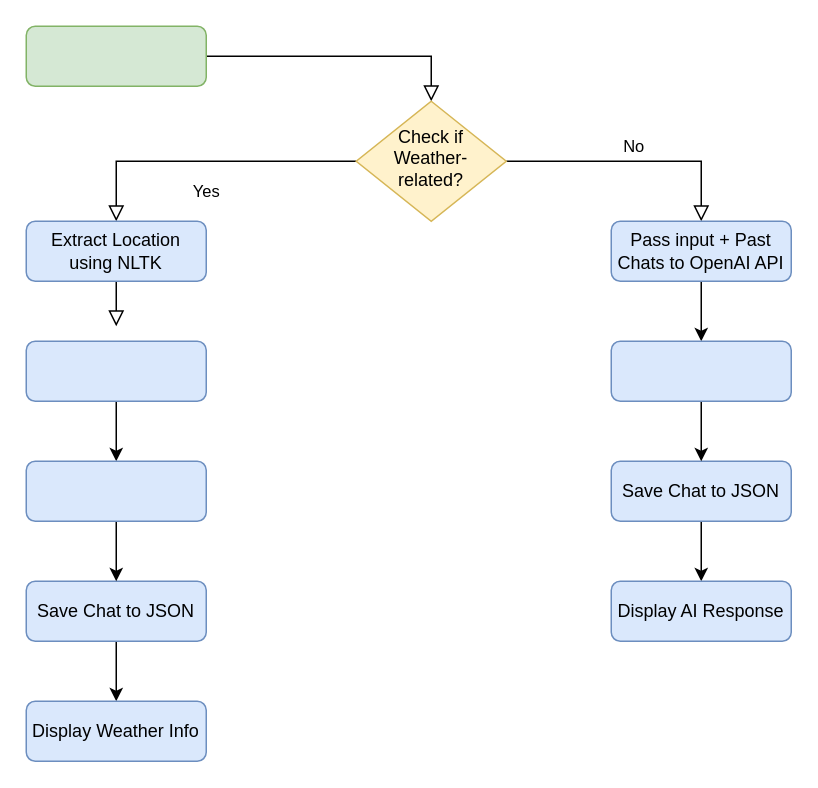
This 818x788 diagram has some shape labels left out. The shapes that lost their labels are listed below. From the top down, each one's centre as x and y in pixels, then its label:
At point (115, 55): "User Input".
At point (115, 370): "Query WeatherAPI".
At point (700, 370): "Generate Chat Response".
At point (115, 490): "Format Weather Response".
